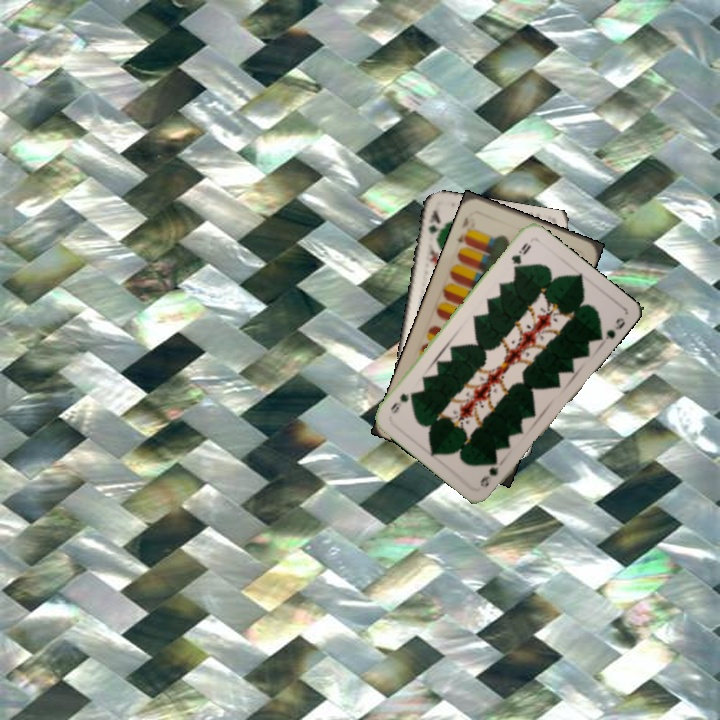E10: (452, 212, 473, 247)
G9: (507, 238, 533, 271), (476, 456, 501, 490)
GK: (424, 204, 443, 245)
